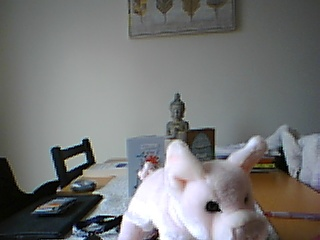piggy: (116, 133, 271, 240)
